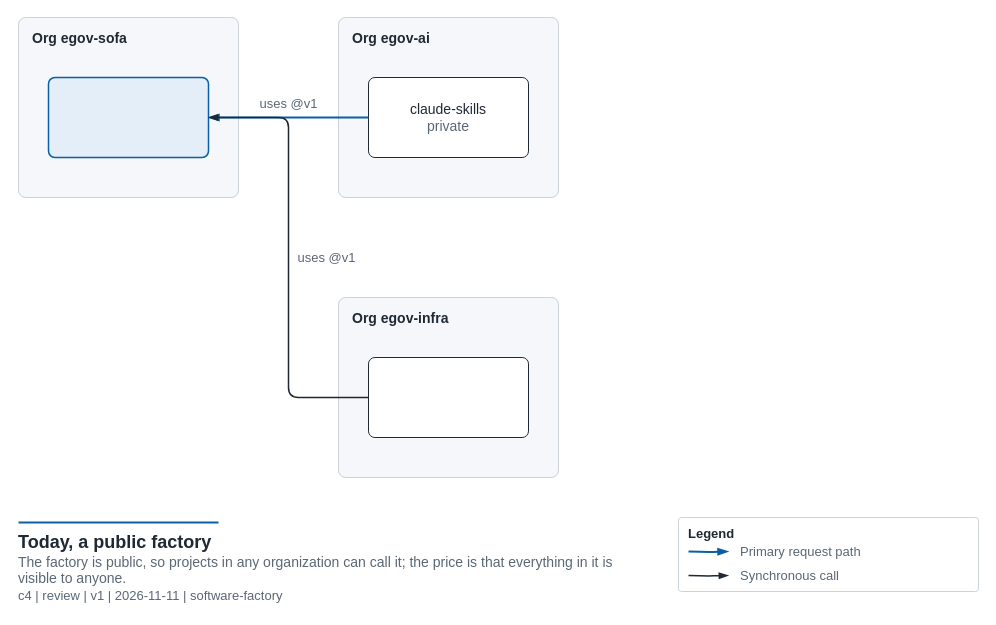
Image size: 996x625. Some labels were removed from this diagram. The shapes that lost their labels are listed below. From the top down, each one's centre as x and y in pixels, then its label:
the point at 128,117: software-factory public
the point at 448,397: a project private
